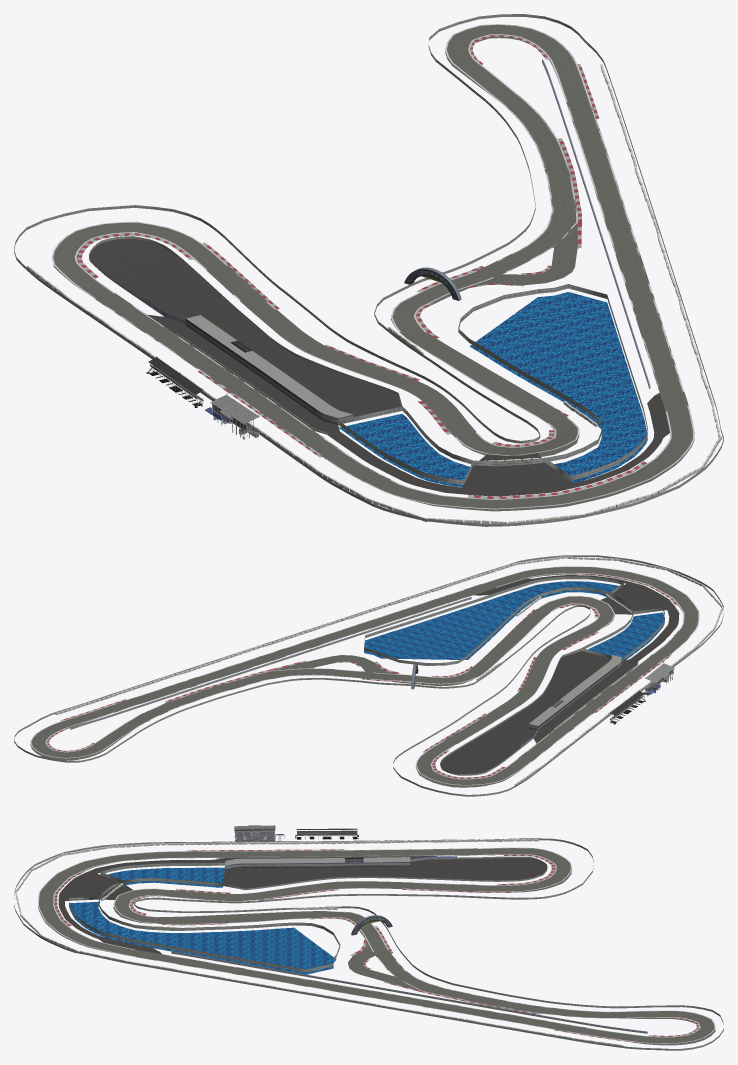
The model's file is turboTsukubaVisualTrack.glb.
3 views of the same model, one above another, from view 1: azimuth 30°, elevation 25°; view 2: azimuth 150°, elevation 25°; view 3: azimuth 270°, elevation 25° (orthographic). The views are drawn at different scales.
Parts seen in each view (by area): view 1: inner_46, Plane.001_66, g.002_44, bounds_40, g.006_54, r_38, g.001_50, Kerbs_42, g.005_52, g.011_61, dunlop chicane_43, ddm_gts_tsukuba.103_35 (+2 smaller); view 2: inner_46, Plane.001_66, g.002_44, bounds_40, g.006_54, r_38, g.001_50, Kerbs_42, g.005_52, g.004_48, g.011_61, dunlop chicane_43 (+2 smaller); view 3: inner_46, bounds_40, Plane.001_66, g.002_44, g.006_54, r_38, Kerbs_42, g.005_52, g.001_50, g.004_48, g.011_61, dunlop chicane_43 (+2 smaller).
Part boxes in pixels (<box>): inner_46: <box>53,24,692,508</box>; Plane.001_66: <box>53,36,694,511</box>; g.002_44: <box>339,292,647,487</box>; bounds_40: <box>14,14,723,526</box>; g.006_54: <box>89,238,401,416</box>; r_38: <box>51,24,694,509</box>; g.001_50: <box>147,314,669,496</box>; Kerbs_42: <box>76,35,646,499</box>; g.005_52: <box>185,315,352,424</box>; g.011_61: <box>462,453,573,489</box>; dunlop chicane_43: <box>467,223,577,287</box>; ddm_gts_tsukuba.103_35: <box>205,393,259,439</box>; inner_46: <box>31,567,698,784</box>; Plane.001_66: <box>30,573,689,787</box>; g.002_44: <box>364,581,664,661</box>; bounds_40: <box>14,555,723,796</box>; g.006_54: <box>440,651,611,774</box>; r_38: <box>30,566,699,785</box>; g.001_50: <box>474,575,679,743</box>; Kerbs_42: <box>46,573,678,778</box>; g.005_52: <box>528,655,621,730</box>; g.004_48: <box>70,597,471,729</box>; g.011_61: <box>600,583,666,614</box>; dunlop chicane_43: <box>273,655,396,673</box>; inner_46: <box>39,848,714,1043</box>; bounds_40: <box>14,838,723,1050</box>; Plane.001_66: <box>38,848,715,1045</box>; g.002_44: <box>69,867,336,974</box>; g.006_54: <box>223,858,547,888</box>; r_38: <box>38,847,715,1043</box>; Kerbs_42: <box>54,849,699,1042</box>; g.005_52: <box>225,857,410,870</box>; g.001_50: <box>58,856,437,953</box>; g.004_48: <box>171,951,647,1033</box>; g.011_61: <box>65,873,132,900</box>; dunlop chicane_43: <box>348,941,419,990</box>.
Size of what is drawn, in the model's own units: 12.14 by 0.5158 by 16.84.
11 materials, 11 textured.
